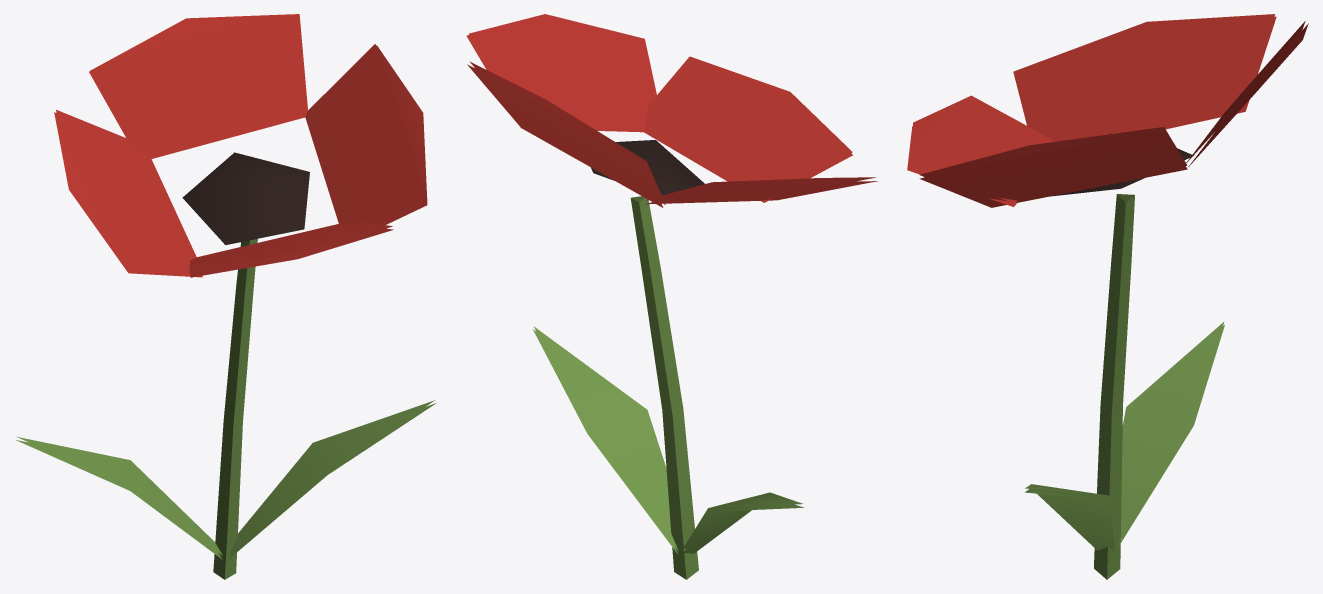
The model's file is flower-0.glb.
The picture shows the model from 3 angles, left to right: view 1: azimuth 30°, elevation 25°; view 2: azimuth 150°, elevation 25°; view 3: azimuth 270°, elevation 25°; orthographic projection. The views are drawn at different scales.
Visible parts, largest first — view 1: flower-0; view 2: flower-0; view 3: flower-0.
Boxes of the visible parts, x1,y1,x2,y2 form: flower-0: (16, 14, 436, 579); flower-0: (466, 14, 877, 579); flower-0: (907, 14, 1308, 579).
Size of the model in its own units: 0.4122 by 0.5687 by 0.3685.
